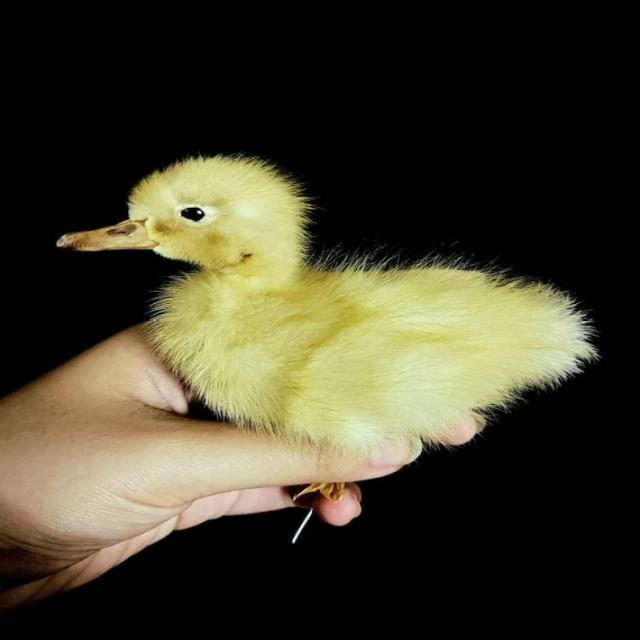Duck: (55, 155, 600, 478), (57, 156, 593, 456)
